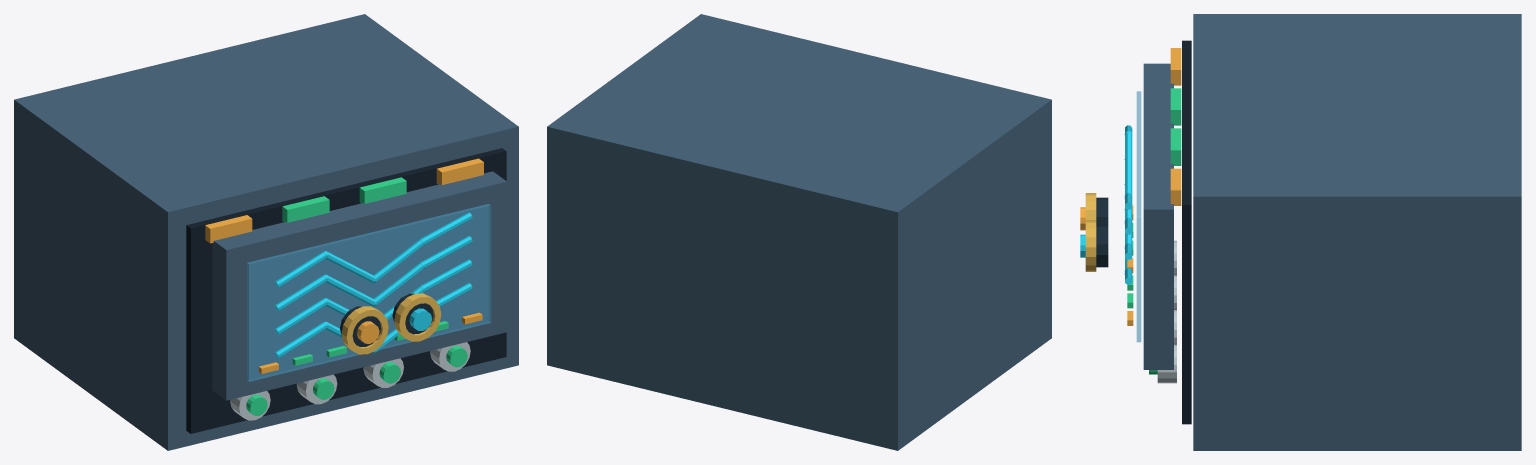
Rendered from 27_L81_CheckpointRecoveryController.fbx.
The picture shows the model from 3 angles, left to right: view 1: azimuth 30°, elevation 25°; view 2: azimuth 150°, elevation 25°; view 3: azimuth 270°, elevation 25°; orthographic projection. The views are drawn at different scales.
Parts seen in each view (by area): view 1: CheckpointRecoveryController; view 2: CheckpointRecoveryController; view 3: CheckpointRecoveryController.
Part boxes in pixels (x1=…): CheckpointRecoveryController: x1=14, y1=14, x2=518, y2=450; CheckpointRecoveryController: x1=547, y1=14, x2=1051, y2=450; CheckpointRecoveryController: x1=1080, y1=14, x2=1521, y2=450.
Size of the model in its own units: 100 by 65 by 102.
